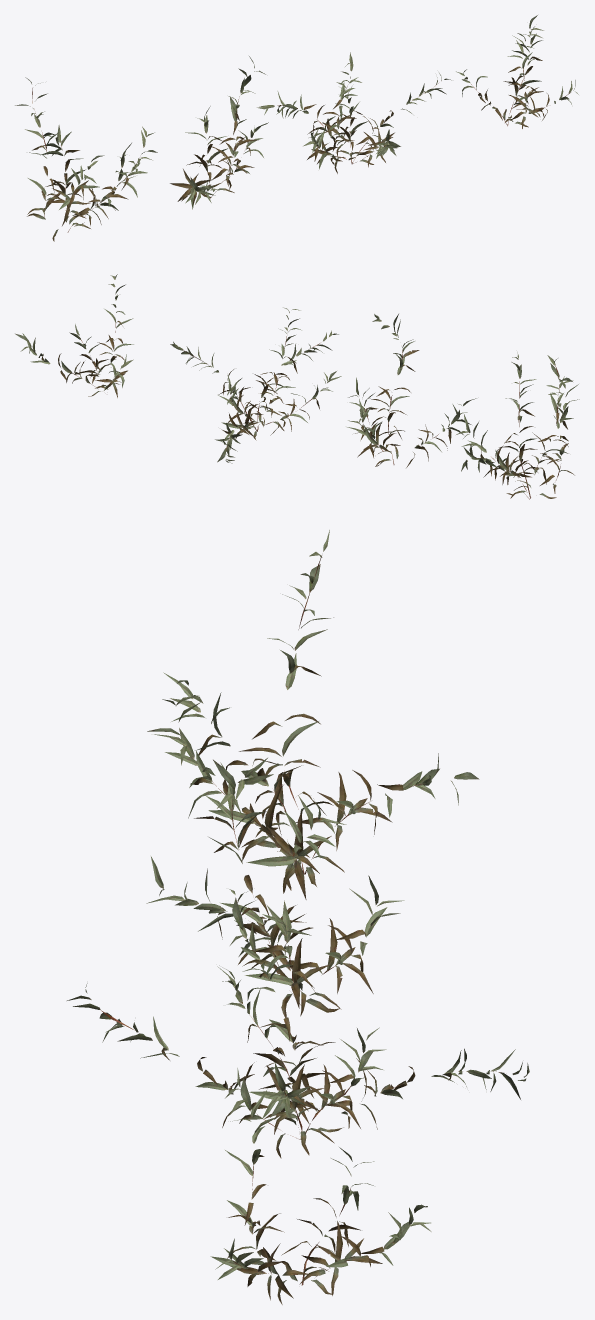
File: shrub_02_lod1.glb
3 renders of one model, top to bottom at view 1: azimuth 30°, elevation 25°; view 2: azimuth 150°, elevation 25°; view 3: azimuth 270°, elevation 25°, orthographic. The views are drawn at different scales.
Parts seen in each view (by area): view 1: shrub_02_c, shrub_02_a, shrub_02_b, shrub_02_d; view 2: shrub_02_a, shrub_02_c, shrub_02_b, shrub_02_d; view 3: shrub_02_a, shrub_02_c, shrub_02_b, shrub_02_d.
Part boxes in pixels (x1,y1,x2,y2): shrub_02_c: (257, 52, 451, 173); shrub_02_a: (15, 77, 157, 241); shrub_02_b: (170, 56, 268, 209); shrub_02_d: (456, 15, 578, 128); shrub_02_a: (456, 352, 579, 499); shrub_02_c: (170, 307, 341, 463); shrub_02_b: (347, 314, 476, 467); shrub_02_d: (15, 274, 133, 397); shrub_02_a: (147, 530, 479, 899); shrub_02_c: (67, 889, 529, 1158); shrub_02_b: (146, 758, 404, 1017); shrub_02_d: (210, 1068, 431, 1304).
Size of the model in its own units: 6.05 by 1.7 by 2.28.
Materials: 1 (1 with a texture image).
